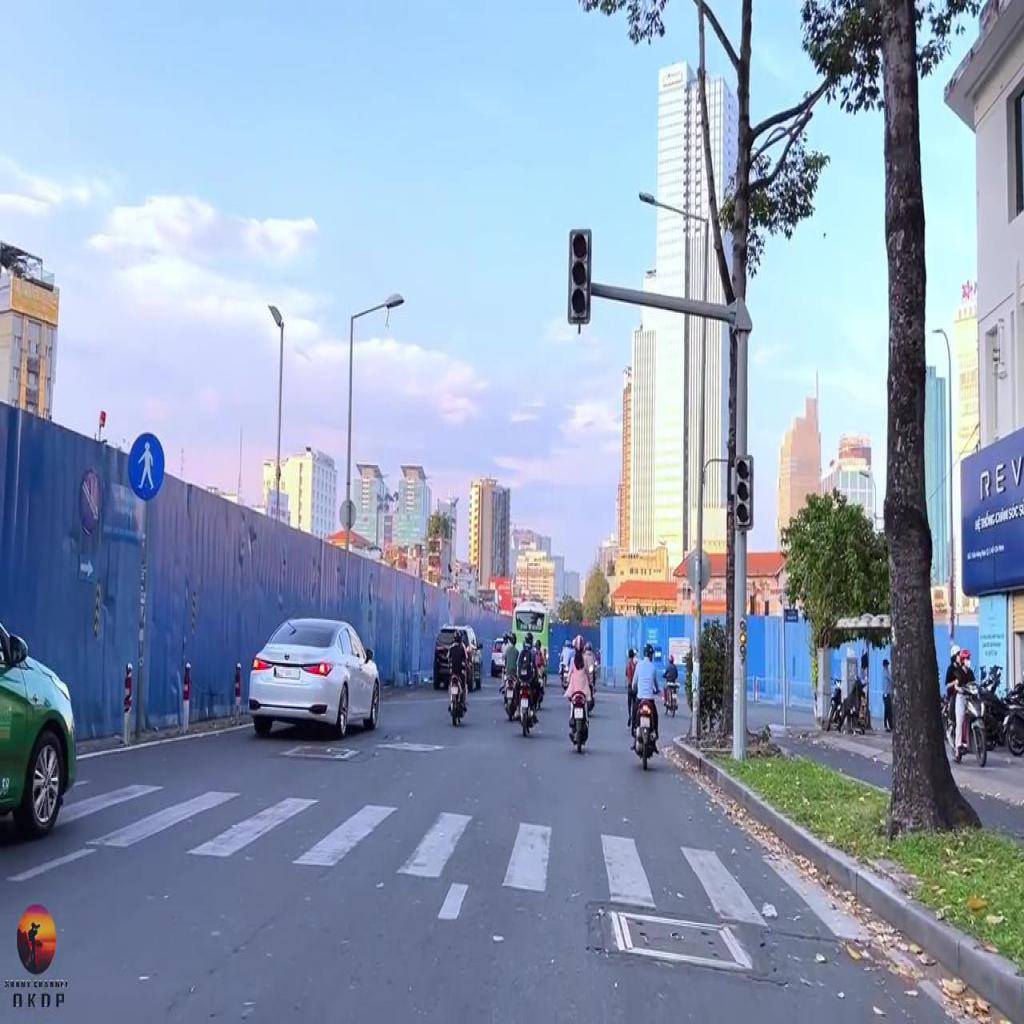duong_cho_nguoi_di_bo: (126, 431, 166, 501)
